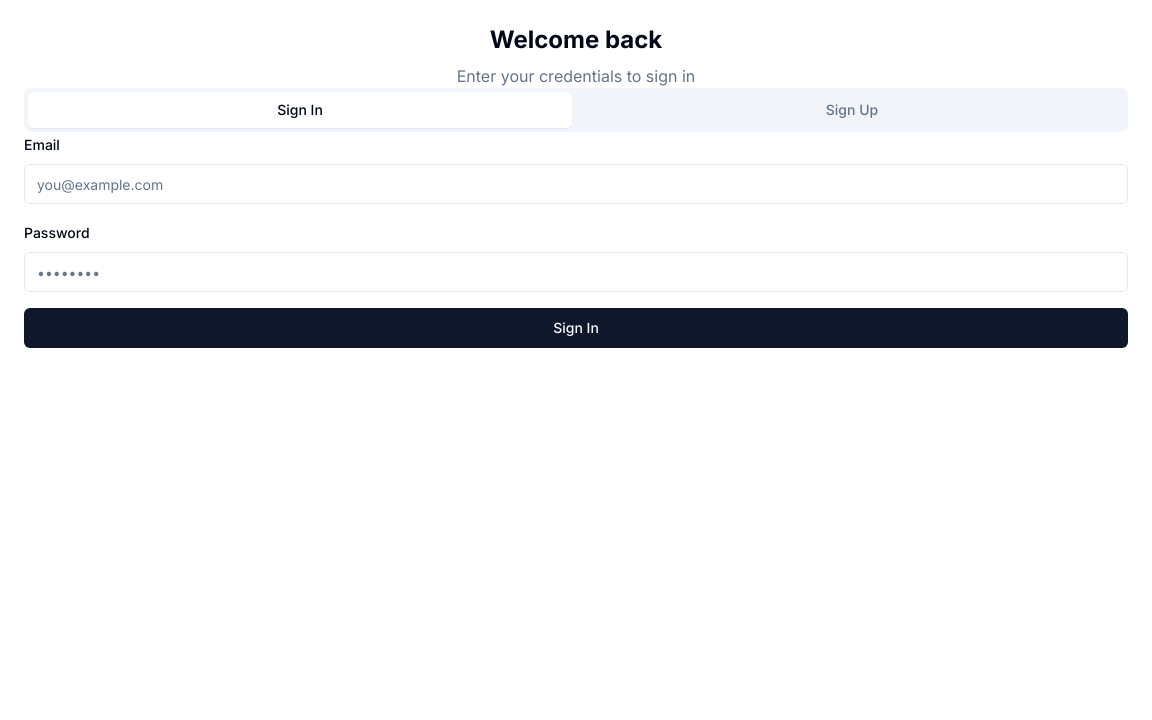
it: AuthForm › toggles to sign up view when button clicked
Click the button "Sign Up". click: [852, 110]
box: [580,92,1124,128]
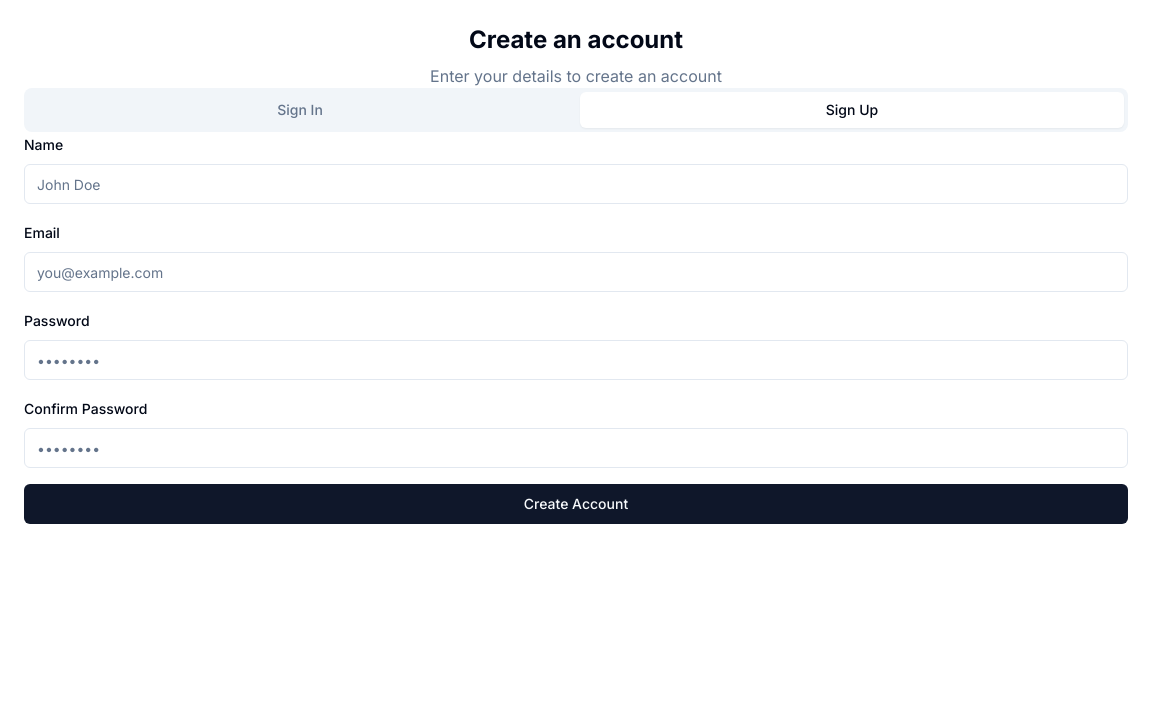
Result: the heading "Create an account" is shown at [469,25,683,54]
Result: the field labelled "Name" is shown at [24,164,1128,204]
Result: the button "Create Account" is shown at [24,484,1128,524]
